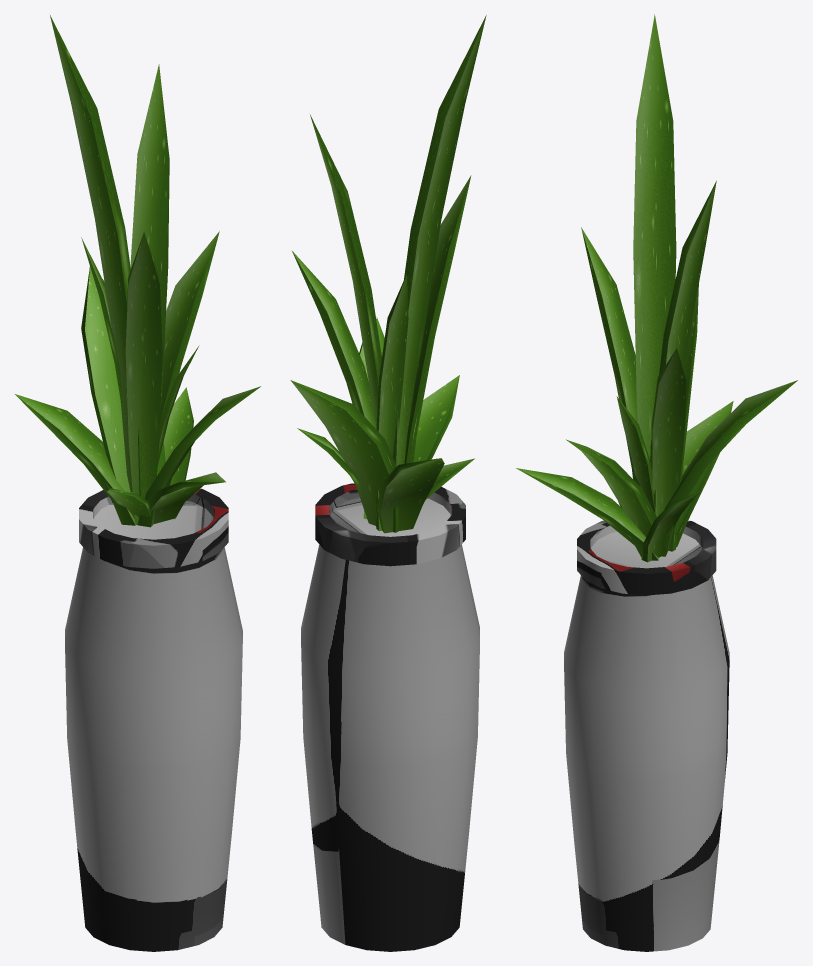
The model's file is FlowerPot1.FBX.
3 renders of one model, left to right at view 1: azimuth 30°, elevation 25°; view 2: azimuth 150°, elevation 25°; view 3: azimuth 270°, elevation 25°, orthographic. The views are drawn at different scales.
Parts seen in each view (by area): view 1: flowerpot0, plant2; view 2: flowerpot0, plant2; view 3: flowerpot0, plant2.
Part boxes in pixels (bbox=[...]): flowerpot0: bbox=[65, 488, 242, 951]; plant2: bbox=[15, 15, 260, 527]; flowerpot0: bbox=[301, 483, 479, 951]; plant2: bbox=[290, 15, 486, 533]; flowerpot0: bbox=[564, 520, 729, 951]; plant2: bbox=[516, 14, 797, 562].
Size of the model in its own units: 7.29 by 35.57 by 10.57.
Materials: 2 (2 with a texture image).
